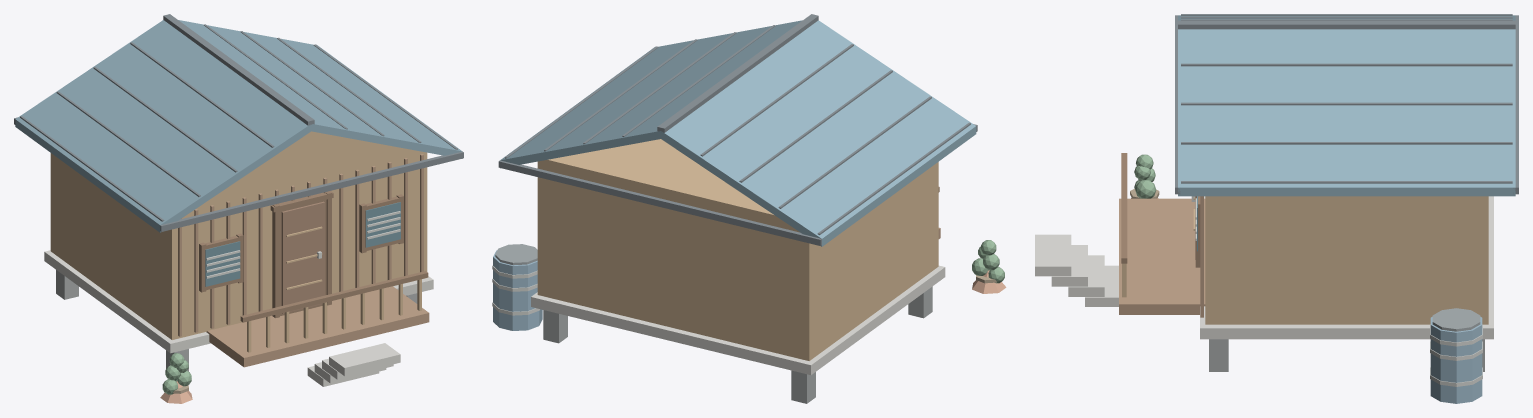
Rendered from 07_Raised_Rural_House.fbx.
3 views of the same model, side by side, from view 1: azimuth 30°, elevation 25°; view 2: azimuth 150°, elevation 25°; view 3: azimuth 270°, elevation 25° (orthographic). The views are drawn at different scales.
Visible parts, largest first — view 1: H07_024_BlueMetalRoof_LeftSlope, H07_006_WoodenUpperWalls, H07_025_BlueMetalRoof_RightSlope, H07_065_FrontVeranda, H07_023_WoodGable, H07_039_TimberDoor_DoorLeaf, H07_005_RaisedConcreteRing, H07_026_BlueMetalRoof_FrontFascia, H07_028_BlueMetalRoof_RidgeCap, H07_080_RaisedStep4, H07_066_VerandaRailTop, H07_056_WoodShutterR_Pane (+22 smaller); view 2: H07_006_WoodenUpperWalls, H07_024_BlueMetalRoof_LeftSlope, H07_025_BlueMetalRoof_RightSlope, H07_005_RaisedConcreteRing, H07_027_BlueMetalRoof_BackFascia, H07_081_SideWaterDrum_Barrel, H07_028_BlueMetalRoof_RidgeCap, H07_085_SideWaterDrum_Lid, H07_002_ConcretePier_-2.0749999999999997_1.695, H07_004_ConcretePier_2.0749999999999997_1.695, H07_029_BlueMetalRoof_Rib01, H07_030_BlueMetalRoof_Rib02 (+7 smaller); view 3: H07_025_BlueMetalRoof_RightSlope, H07_006_WoodenUpperWalls, H07_065_FrontVeranda, H07_005_RaisedConcreteRing, H07_028_BlueMetalRoof_RidgeCap, H07_081_SideWaterDrum_Barrel, H07_080_RaisedStep4, H07_024_BlueMetalRoof_LeftSlope, H07_034_BlueMetalRoof_Rib06, H07_035_BlueMetalRoof_Rib07, H07_030_BlueMetalRoof_Rib02, H07_036_BlueMetalRoof_Rib08 (+12 smaller).
Part boxes in pixels (bbox=[...]): H07_024_BlueMetalRoof_LeftSlope: bbox=[15, 20, 311, 232]; H07_006_WoodenUpperWalls: bbox=[50, 151, 427, 339]; H07_025_BlueMetalRoof_RightSlope: bbox=[178, 20, 462, 158]; H07_065_FrontVeranda: bbox=[206, 286, 429, 367]; H07_023_WoodGable: bbox=[203, 131, 419, 204]; H07_039_TimberDoor_DoorLeaf: bbox=[281, 201, 324, 313]; H07_005_RaisedConcreteRing: bbox=[44, 250, 433, 353]; H07_026_BlueMetalRoof_FrontFascia: bbox=[160, 151, 463, 231]; H07_028_BlueMetalRoof_RidgeCap: bbox=[163, 14, 314, 125]; H07_080_RaisedStep4: bbox=[329, 343, 400, 376]; H07_066_VerandaRailTop: bbox=[240, 271, 428, 322]; H07_056_WoodShutterR_Pane: bbox=[365, 202, 400, 247]; H07_006_WoodenUpperWalls: bbox=[537, 139, 938, 360]; H07_024_BlueMetalRoof_LeftSlope: bbox=[661, 20, 976, 246]; H07_025_BlueMetalRoof_RightSlope: bbox=[500, 20, 802, 168]; H07_005_RaisedConcreteRing: bbox=[531, 265, 945, 374]; H07_027_BlueMetalRoof_BackFascia: bbox=[498, 160, 821, 245]; H07_081_SideWaterDrum_Barrel: bbox=[493, 250, 542, 330]; H07_028_BlueMetalRoof_RidgeCap: bbox=[657, 14, 818, 132]; H07_085_SideWaterDrum_Lid: bbox=[495, 244, 537, 265]; H07_002_ConcretePier_-2.0749999999999997_1.695: bbox=[791, 370, 815, 403]; H07_004_ConcretePier_2.0749999999999997_1.695: bbox=[543, 310, 567, 343]; H07_029_BlueMetalRoof_Rib01: bbox=[817, 122, 970, 235]; H07_030_BlueMetalRoof_Rib02: bbox=[778, 96, 931, 208]; H07_025_BlueMetalRoof_RightSlope: bbox=[1178, 29, 1515, 196]; H07_006_WoodenUpperWalls: bbox=[1205, 196, 1488, 324]; H07_065_FrontVeranda: bbox=[1119, 198, 1205, 314]; H07_005_RaisedConcreteRing: bbox=[1200, 196, 1493, 339]; H07_028_BlueMetalRoof_RidgeCap: bbox=[1178, 20, 1515, 29]; H07_081_SideWaterDrum_Barrel: bbox=[1430, 316, 1482, 403]; H07_080_RaisedStep4: bbox=[1035, 234, 1071, 276]; H07_024_BlueMetalRoof_LeftSlope: bbox=[1178, 15, 1515, 20]; H07_034_BlueMetalRoof_Rib06: bbox=[1181, 63, 1512, 66]; H07_035_BlueMetalRoof_Rib07: bbox=[1181, 102, 1512, 105]; H07_030_BlueMetalRoof_Rib02: bbox=[1181, 16, 1512, 18]; H07_036_BlueMetalRoof_Rib08: bbox=[1181, 142, 1512, 144].
Bounding box in the file's own units: 612 × 407 × 640.
